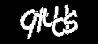d: (51, 5, 69, 35)
q: (20, 10, 38, 38)
s: (62, 11, 77, 33)
t: (33, 7, 49, 31)
u: (42, 7, 58, 25)
